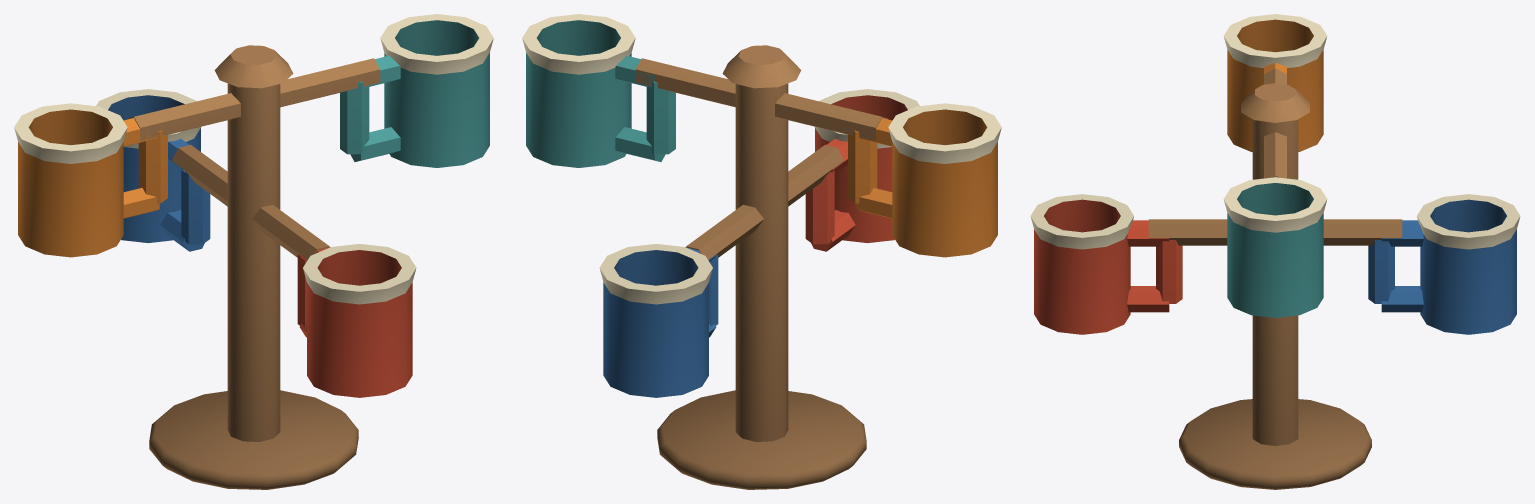
File: MugTree_01.glb
The picture shows the model from 3 angles, left to right: view 1: azimuth 30°, elevation 25°; view 2: azimuth 150°, elevation 25°; view 3: azimuth 270°, elevation 25°; orthographic projection. The views are drawn at different scales.
Parts seen in each view (by area): view 1: SM_MugTree_01; view 2: SM_MugTree_01; view 3: SM_MugTree_01.
Part boxes in pixels (x1=…): SM_MugTree_01: x1=14, y1=14, x2=493, y2=489; SM_MugTree_01: x1=522, y1=14, x2=1001, y2=489; SM_MugTree_01: x1=1030, y1=14, x2=1520, y2=489.
Bounding box in the file's own units: 0.406 × 0.328 × 0.406.
Materials: 1 (1 with a texture image).
